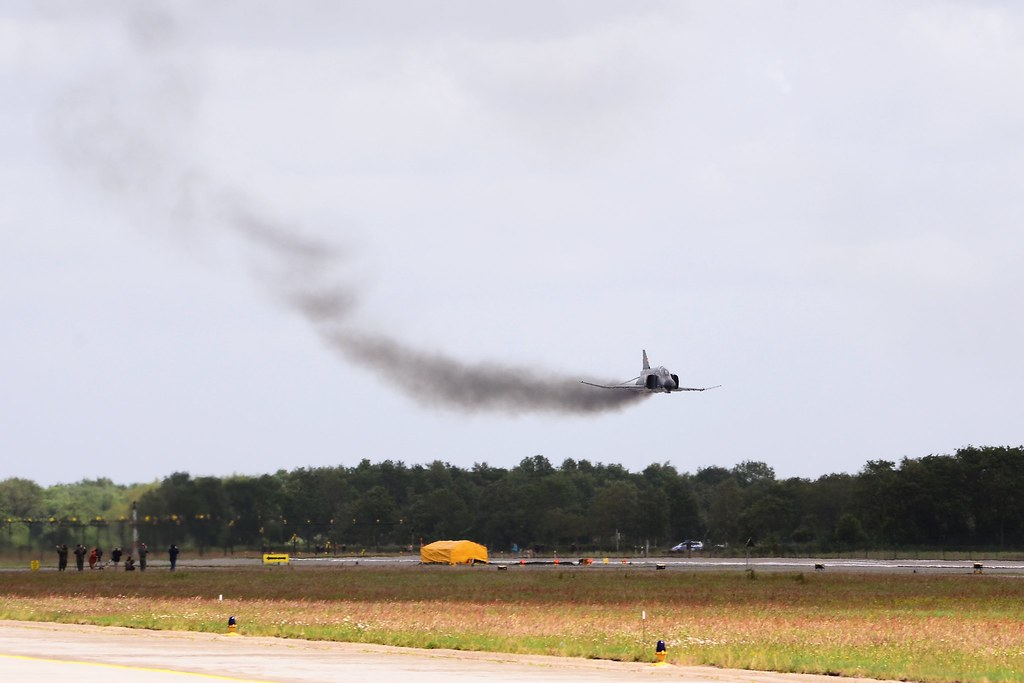F4: (576, 349, 722, 394)
